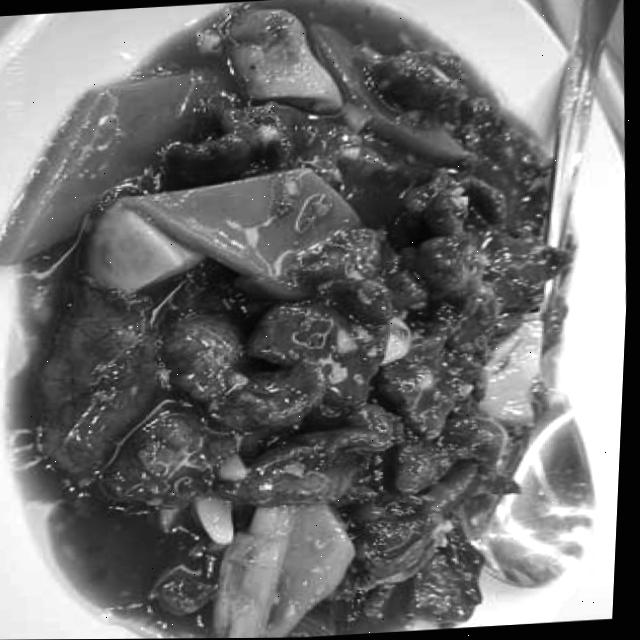牛肉菜式: (0, 6, 640, 640)
